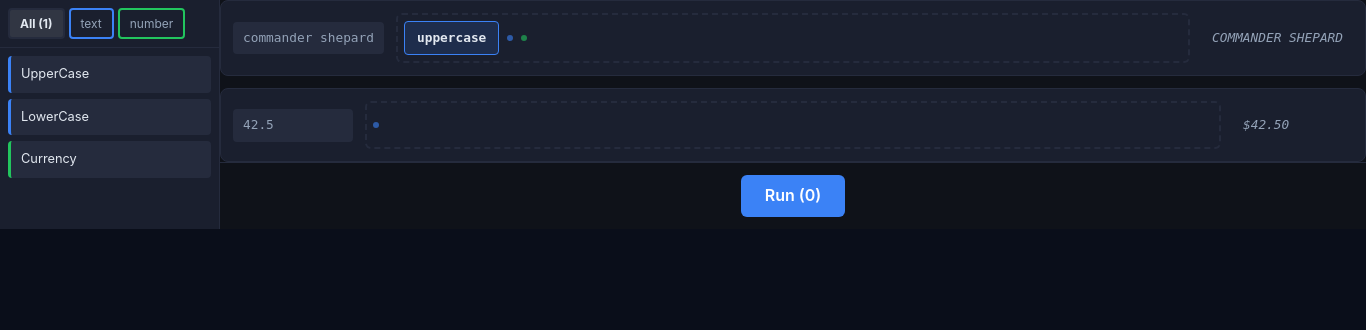
Test: DataRelayComponent › Pipe Parameter Configuration › should show parameter editor when placed pipe is clicked
Note: Click the placed pipe
Click the button with class "stream-visualizer__pipe-block" at (452, 38), box [404,21,499,56]
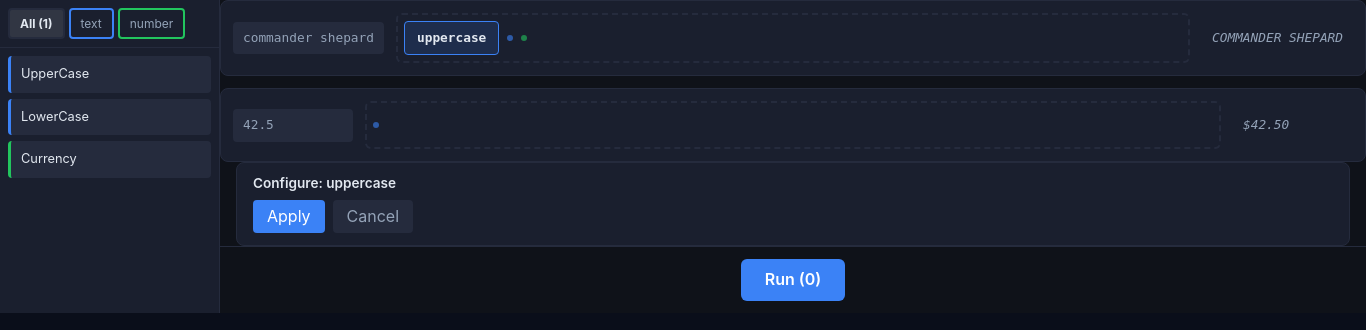
Now the element with class "data-relay__config-panel" is shown, box [236,162,1350,246]
